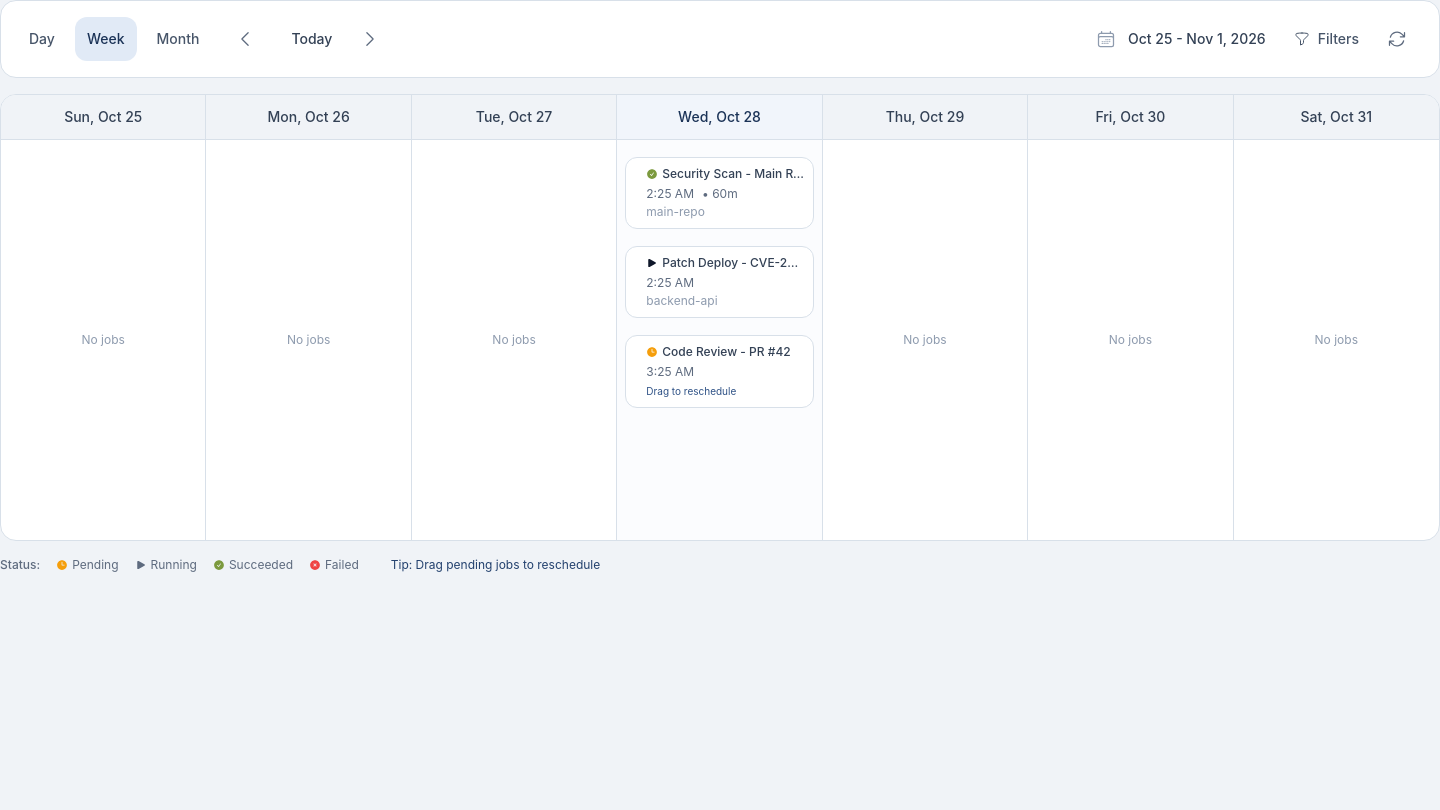
Test: JobTimelineView › Entry Interaction › opens entry detail modal on click
The width and height of the screenshot is (1440, 810).
Step 1. Click the text "Security Scan - Main Repo" → (734, 174), box [662,166,805,182]
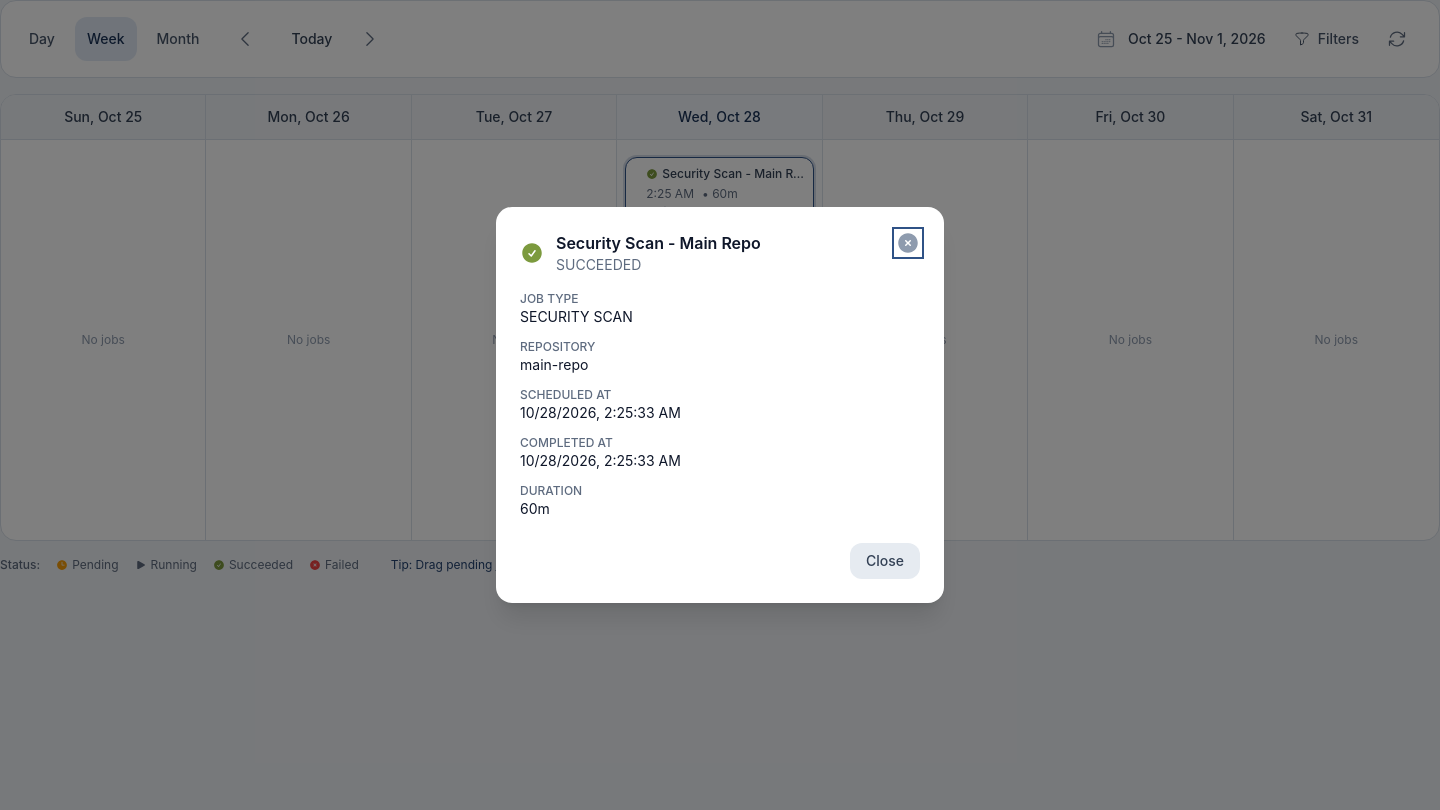
Result: the text "Job Type" is shown at [520,291,578,306]
Result: the text "SECURITY SCAN" is shown at [520,308,633,325]
